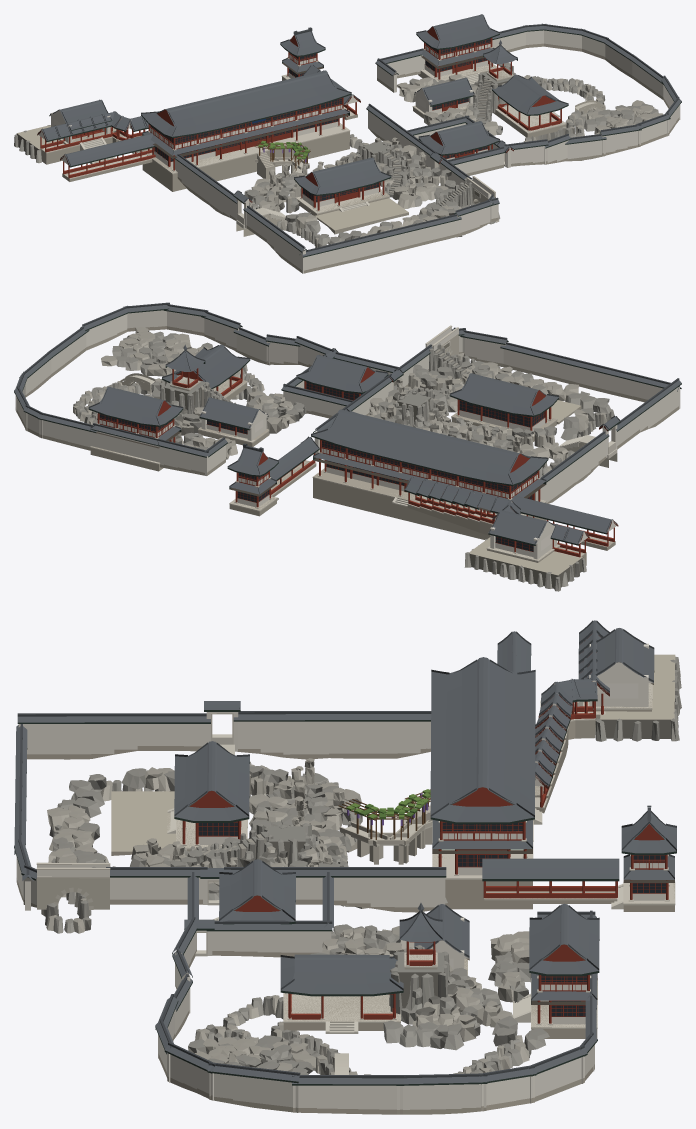
3 renders of one model, top to bottom at view 1: azimuth 30°, elevation 25°; view 2: azimuth 150°, elevation 25°; view 3: azimuth 270°, elevation 25°, orthographic. The views are drawn at different scales.
Parts seen in each view (by area): view 1: CC13 狮子林 Shizi Lin; view 2: CC13 狮子林 Shizi Lin; view 3: CC13 狮子林 Shizi Lin.
Part boxes in pixels (x1,y1,x2,y2): CC13 狮子林 Shizi Lin: (14, 14, 681, 273); CC13 狮子林 Shizi Lin: (14, 302, 681, 591); CC13 狮子林 Shizi Lin: (14, 620, 681, 1114).
Size of the model in its own units: 102 by 14.09 by 65.41.
